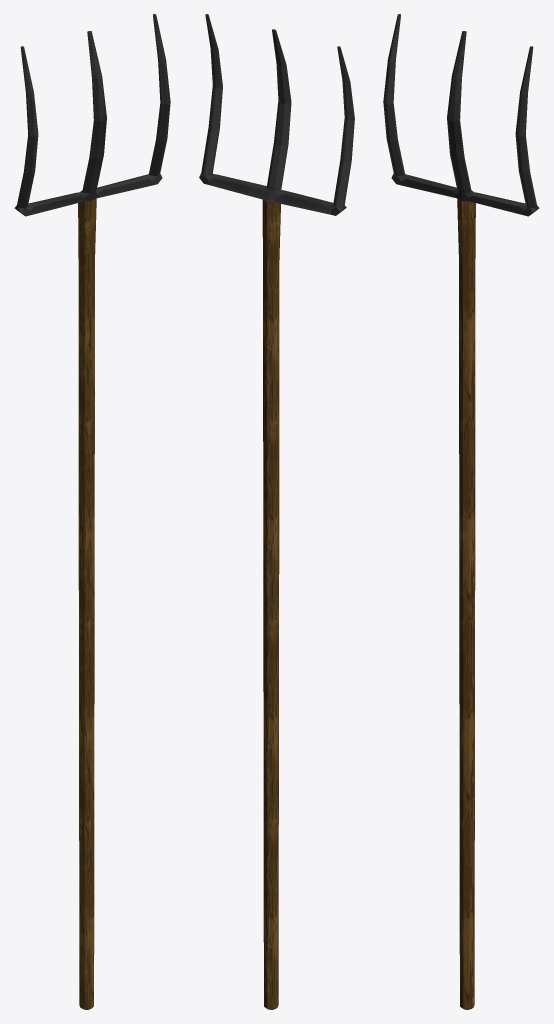
File: Pitchfork.fbx
The picture shows the model from 3 angles, left to right: view 1: azimuth 30°, elevation 25°; view 2: azimuth 150°, elevation 25°; view 3: azimuth 330°, elevation 25°; orthographic projection.
Visible parts, largest first — view 1: HoeTool_v01; view 2: HoeTool_v01; view 3: HoeTool_v01.
Boxes of the visible parts, left/top/right/bottom form: HoeTool_v01: left=14, top=14, right=170, bottom=1009; HoeTool_v01: left=199, top=14, right=354, bottom=1009; HoeTool_v01: left=383, top=14, right=539, bottom=1009.
Bounding box in the file's own units: 13.51 × 3.38 × 88.99.
